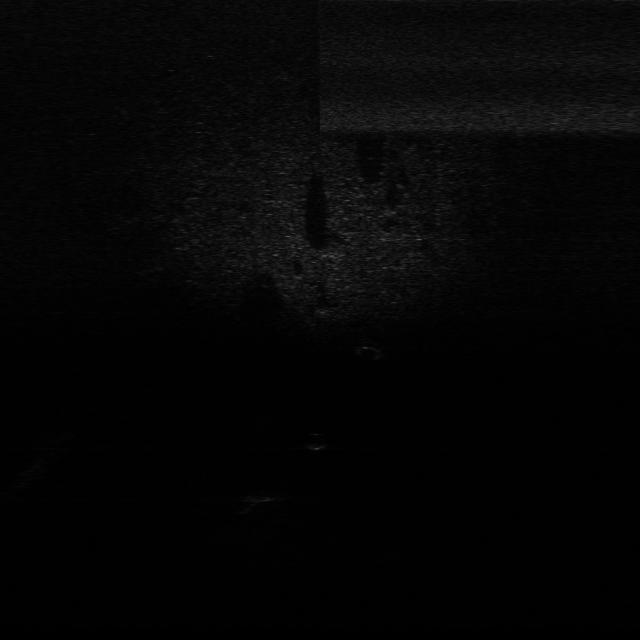ball: (300, 431, 330, 452)
square cage: (247, 487, 297, 506)
tyre: (350, 338, 390, 362)
